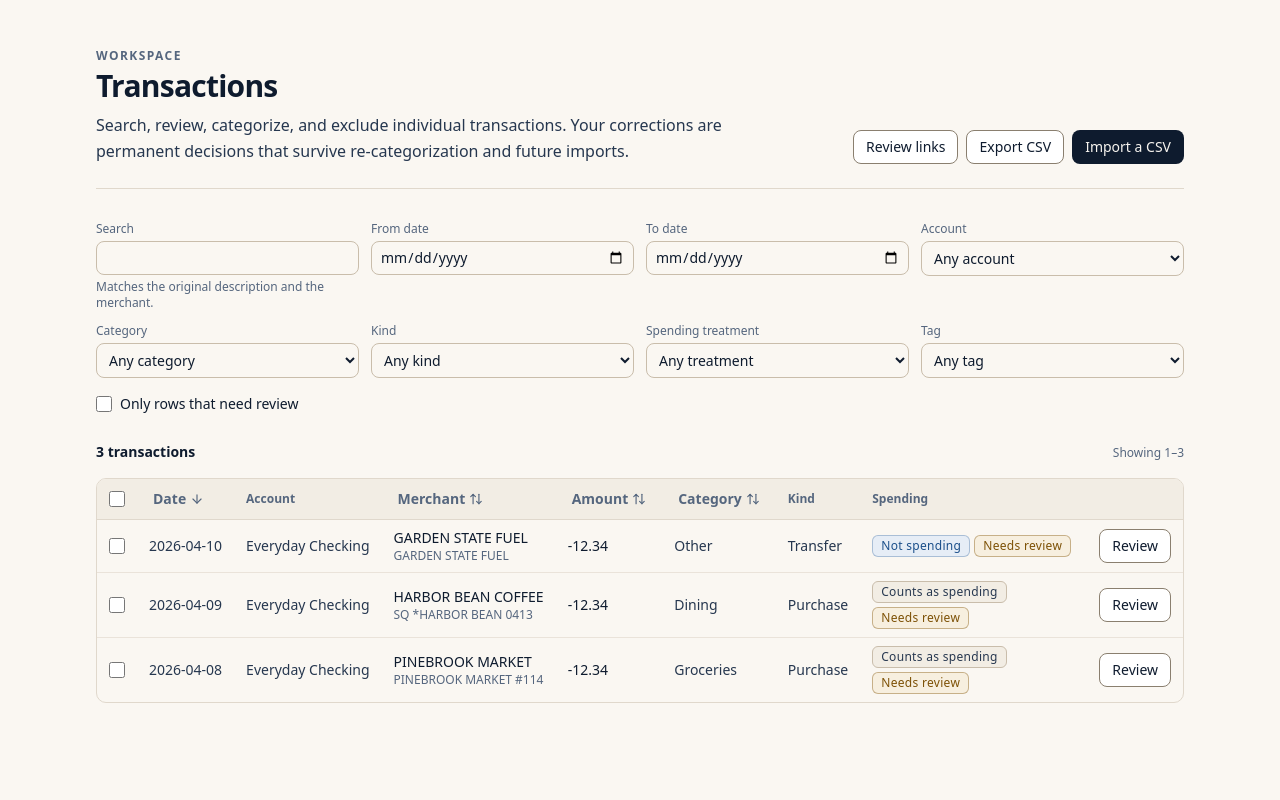
it: a populated workspace › filters by category and clears filters again
Expected: the heading "3 transactions" is shown, 96,442 -> 195,462
Step 1. Select "Groceries" in the dropdown labelled "Category" → coordinates (228, 360), box 96,343 -> 359,378
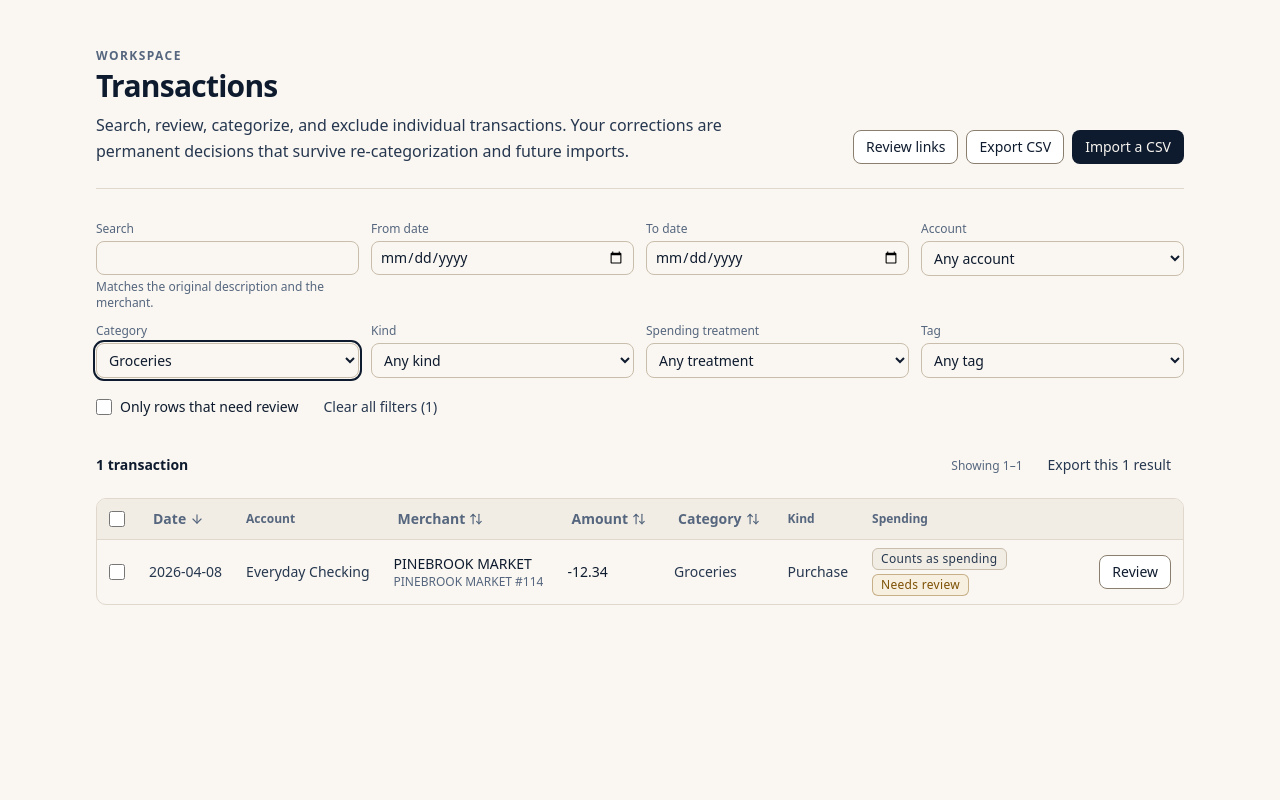
Expected: the heading "1 transaction" is shown, 96,455 -> 188,475
Step 2. Click the button "Clear all filters (1)" → coordinates (380, 407), box 310,390 -> 450,424
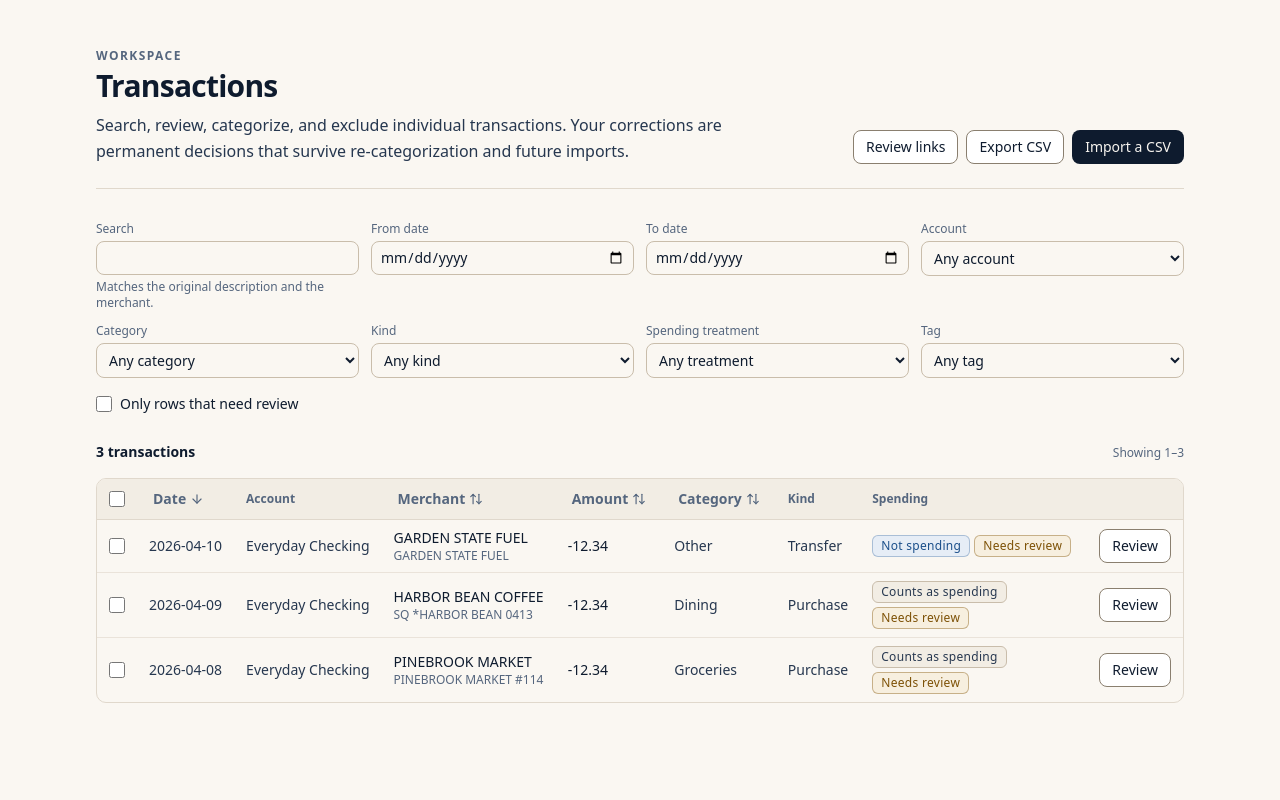
Expected: the heading "3 transactions" is shown, 96,442 -> 195,462
